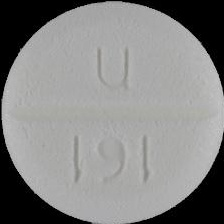43393-203: (0, 0, 224, 224)
